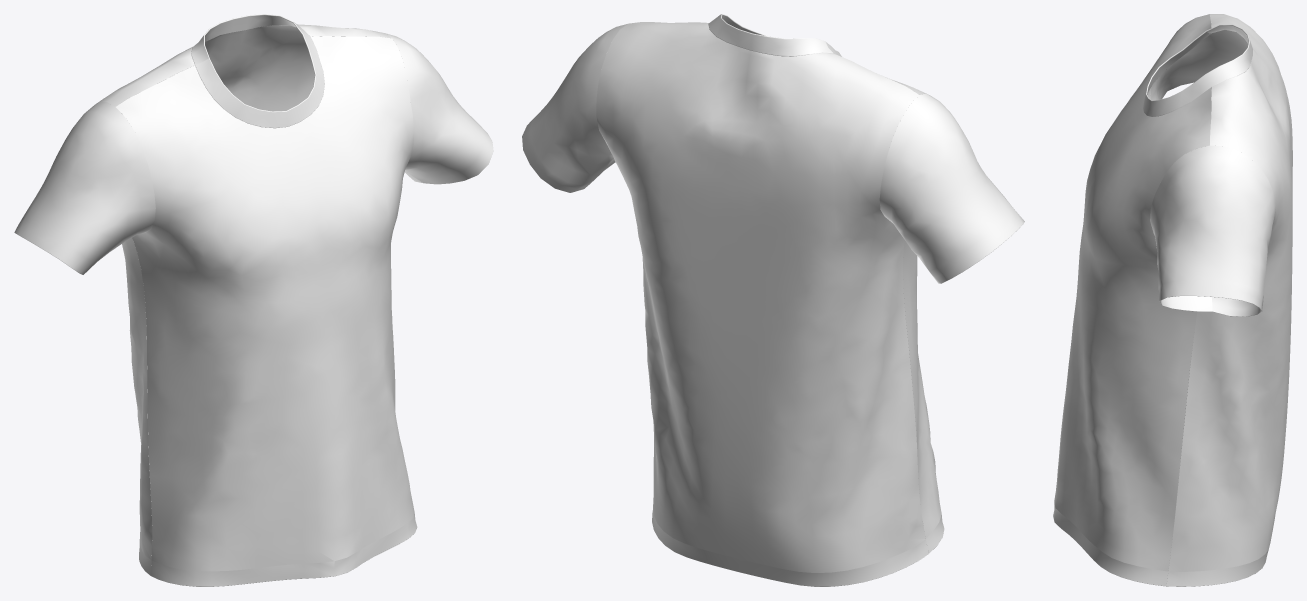
File: tee.gltf
The picture shows the model from 3 angles, left to right: view 1: azimuth 30°, elevation 25°; view 2: azimuth 150°, elevation 25°; view 3: azimuth 270°, elevation 25°; orthographic projection. The views are drawn at different scales.
Parts seen in each view (by area): view 1: Cloth; view 2: Cloth; view 3: Cloth.
Boxes of the visible parts, x1,y1,x2,y2 form: Cloth: (14,14,493,586); Cloth: (522,14,1024,586); Cloth: (1053,14,1292,586).
Bounding box in the file's own units: 65.19 × 69.59 × 30.47.
2 materials, 2 textured.
